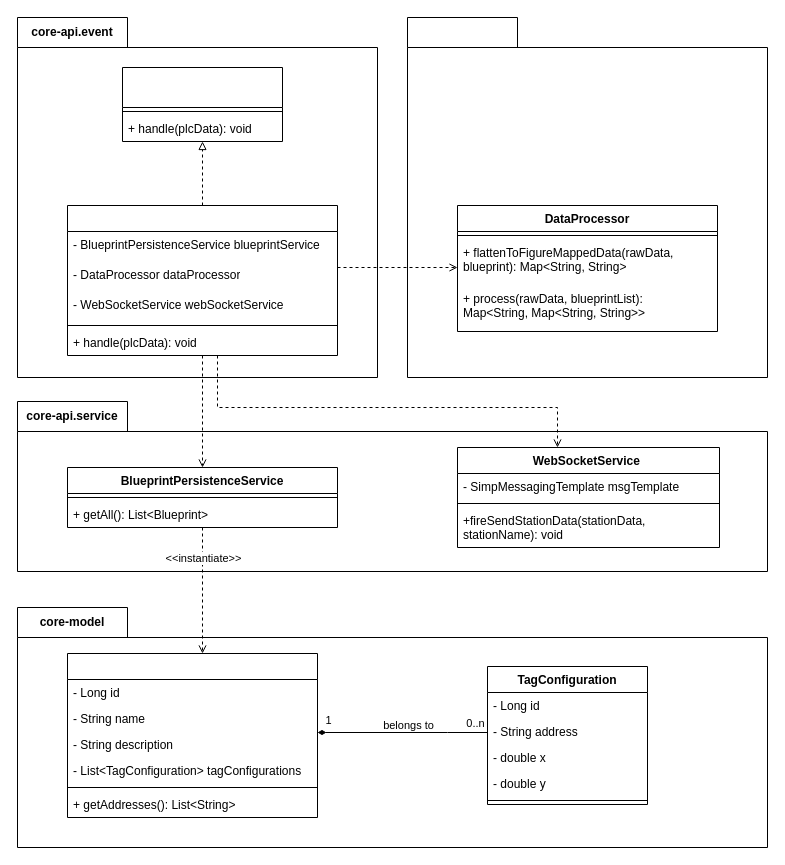
The diagram is 785 pixels wide and 865 high, and some of its shapes have lost their labels. Here are the shapes that lost their labels. From the top down, the box of each, then its label:
(122, 66, 282, 142): <<interface>> RmsHandler
(406, 16, 768, 378): core-api.support
(66, 204, 338, 356): MonitorHandler
(66, 652, 318, 818): Blueprint
